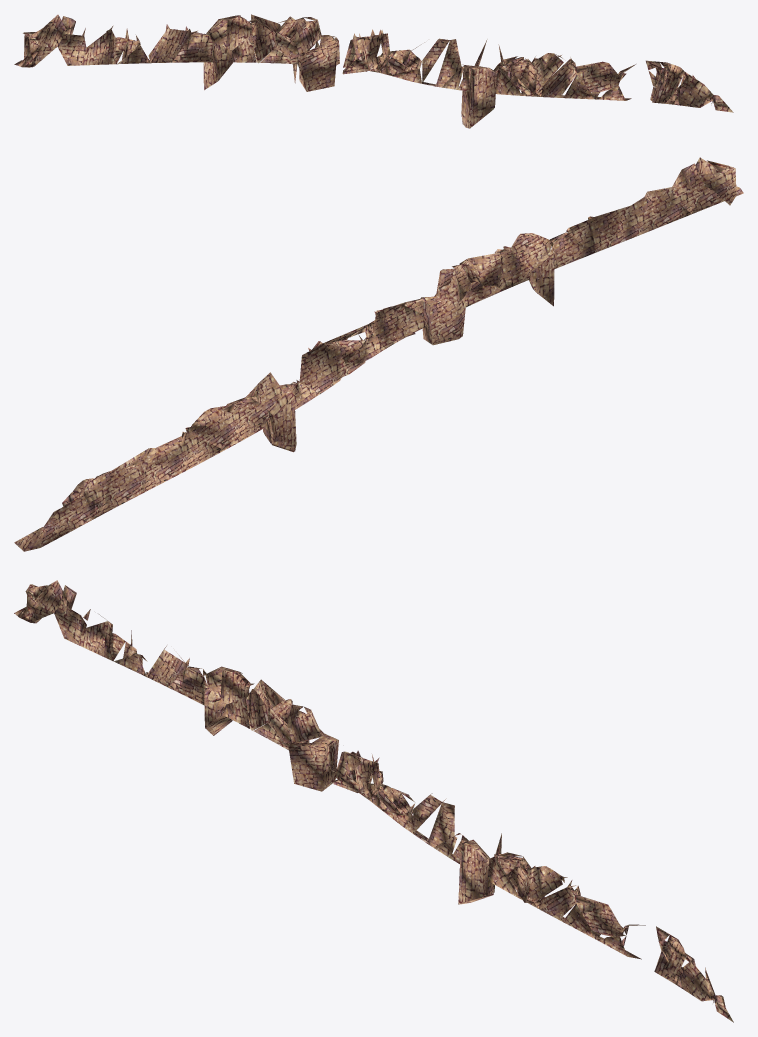
File: monestary_wall_broken_b.glb
3 renders of one model, top to bottom at view 1: azimuth 30°, elevation 25°; view 2: azimuth 210°, elevation 25°; view 3: azimuth 330°, elevation 25°, orthographic. The views are drawn at different scales.
Visible parts, largest first — view 1: brick_wall_06.jpg__; view 2: brick_wall_06.jpg__; view 3: brick_wall_06.jpg__.
Boxes of the visible parts, x1,y1,x2,y2 form: brick_wall_06.jpg__: (14,14,733,128); brick_wall_06.jpg__: (14,157,743,551); brick_wall_06.jpg__: (14,580,733,1022).
Size of the model in its own units: 67.13 by 22.29 by 3.75.
Materials: 1 (1 with a texture image).
